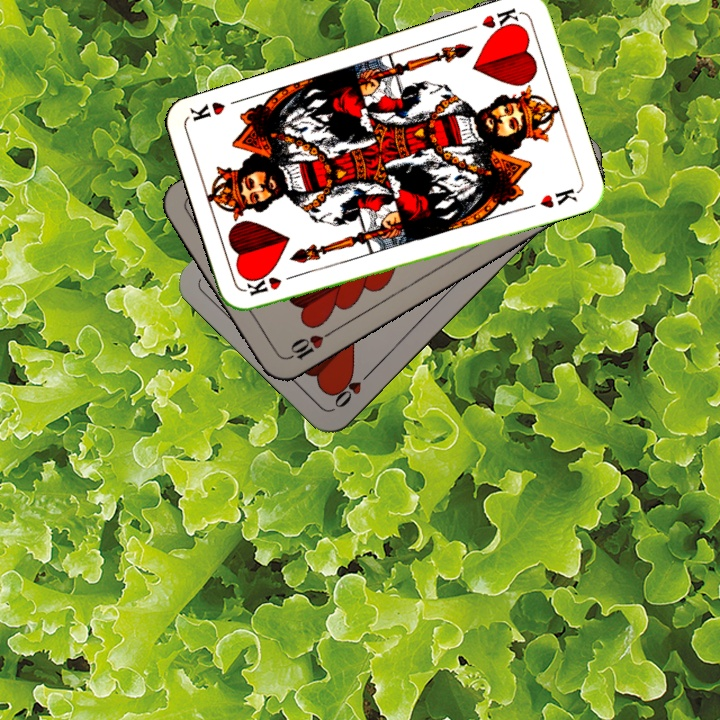H10: (280, 327, 334, 363)
HK: (242, 269, 301, 298), (478, 4, 525, 38)
HO: (330, 365, 376, 411)
